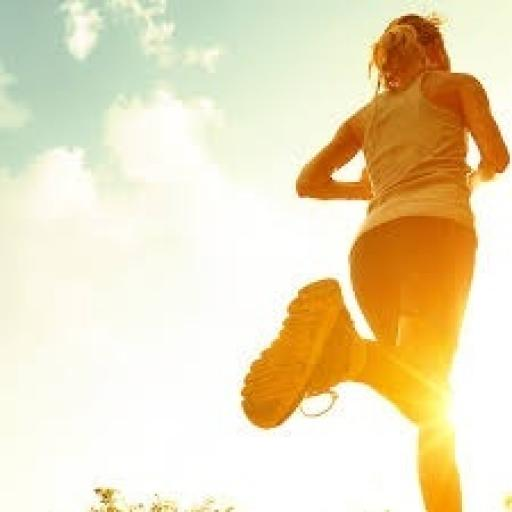running: (236, 9, 510, 510)
